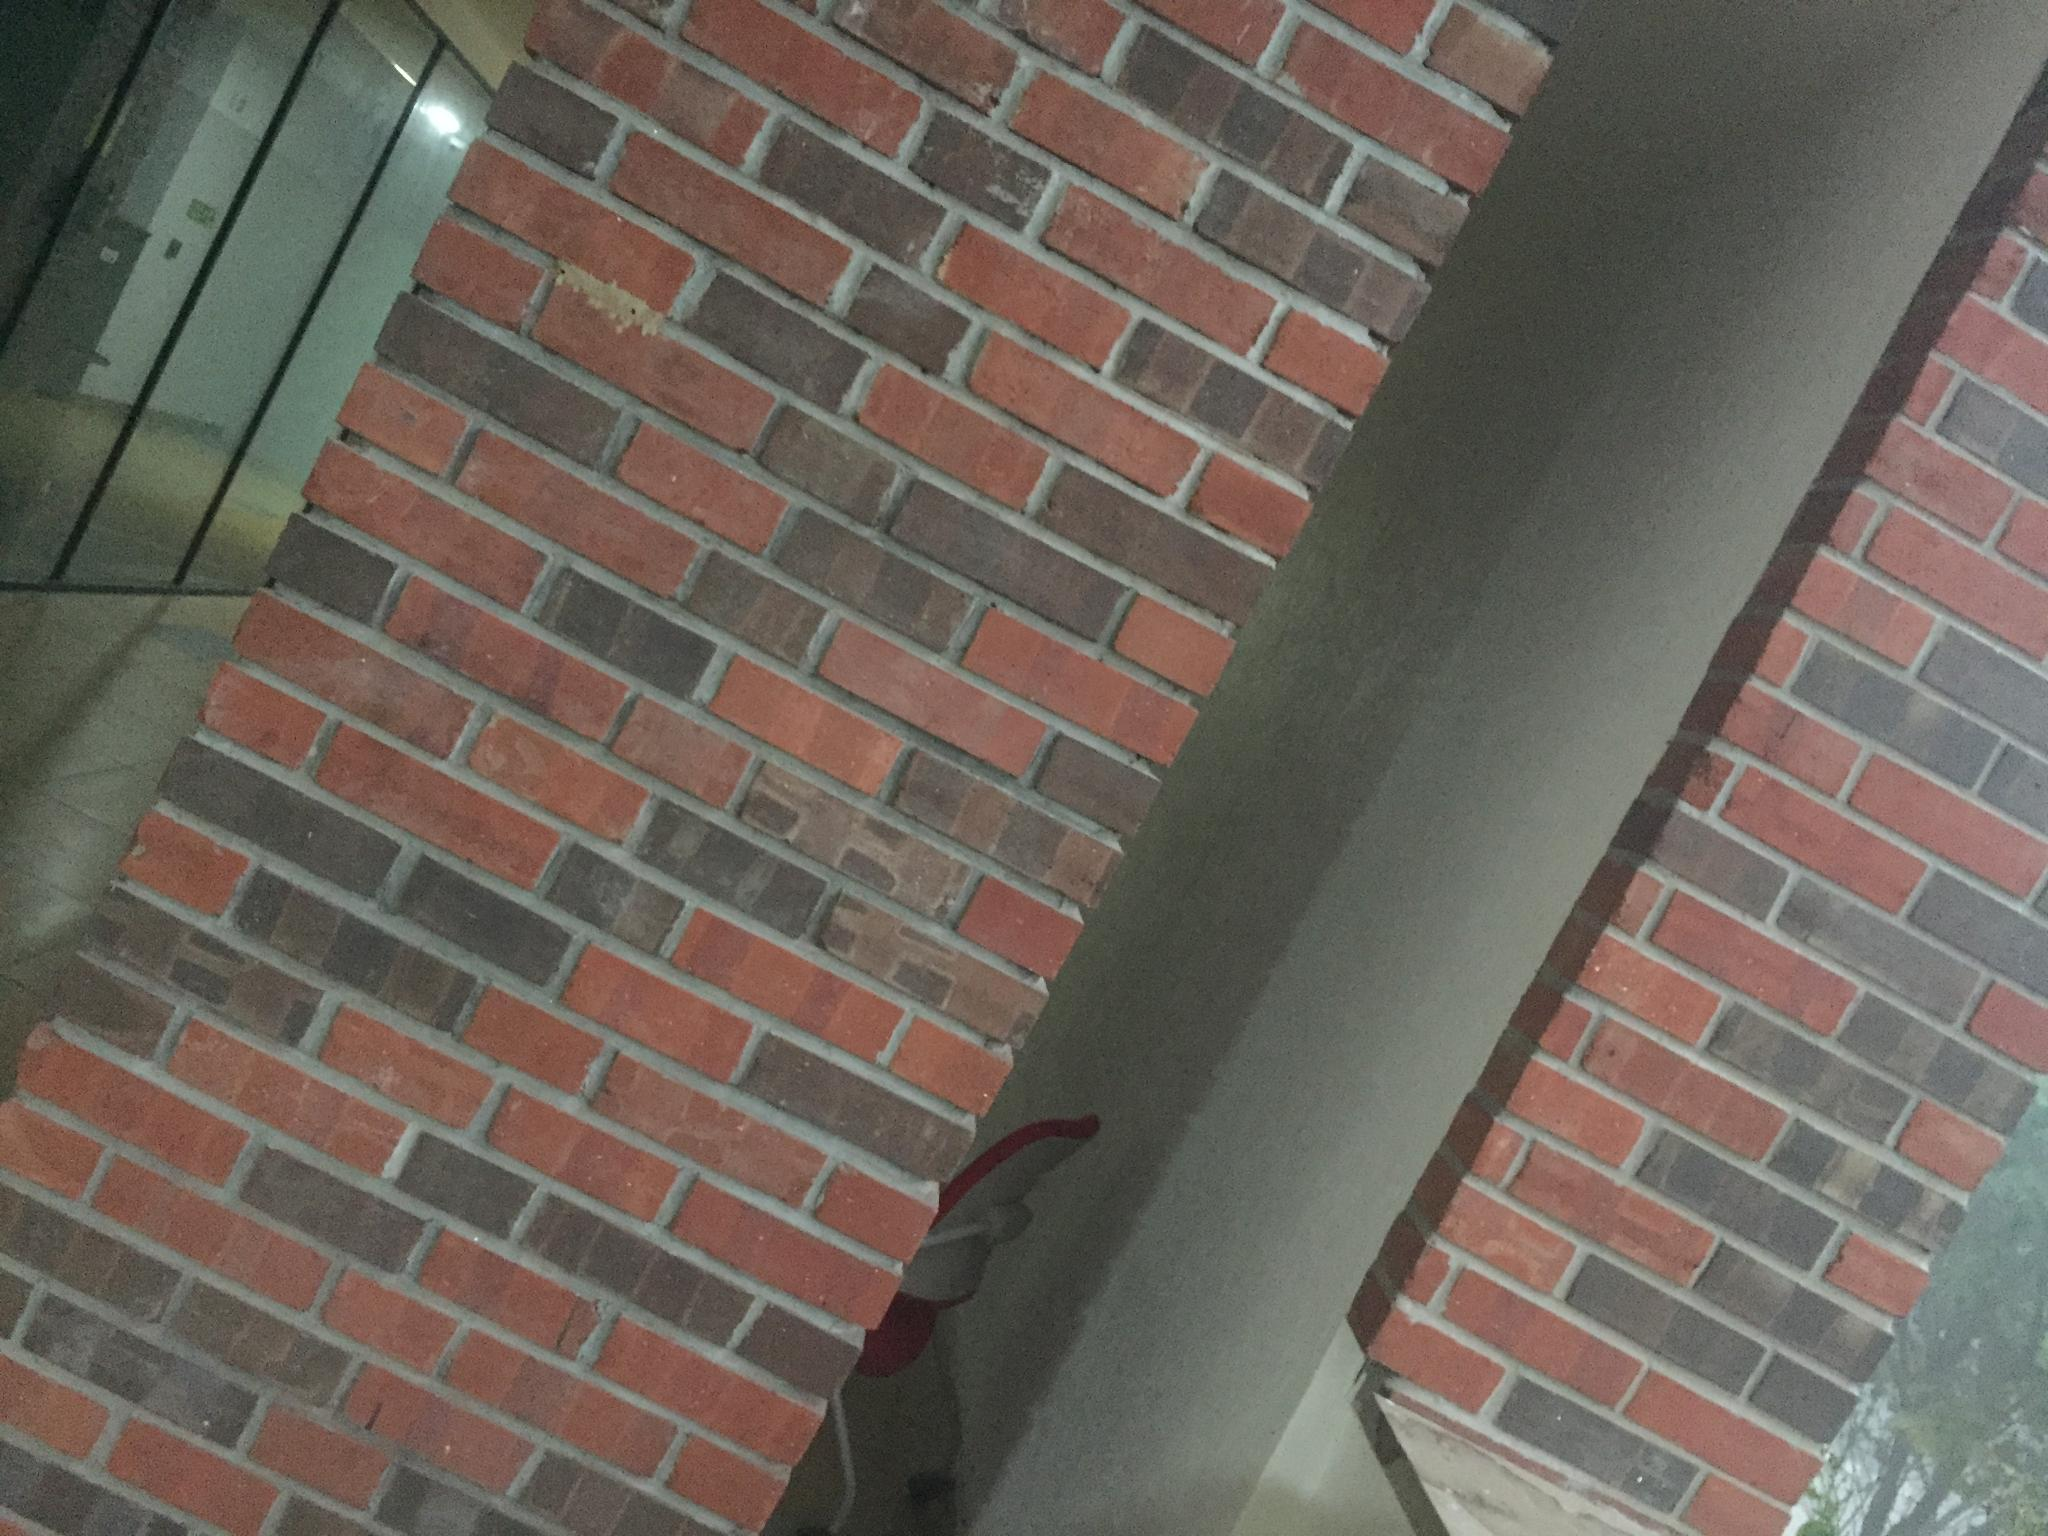chair: (690, 1086, 1114, 1536)
